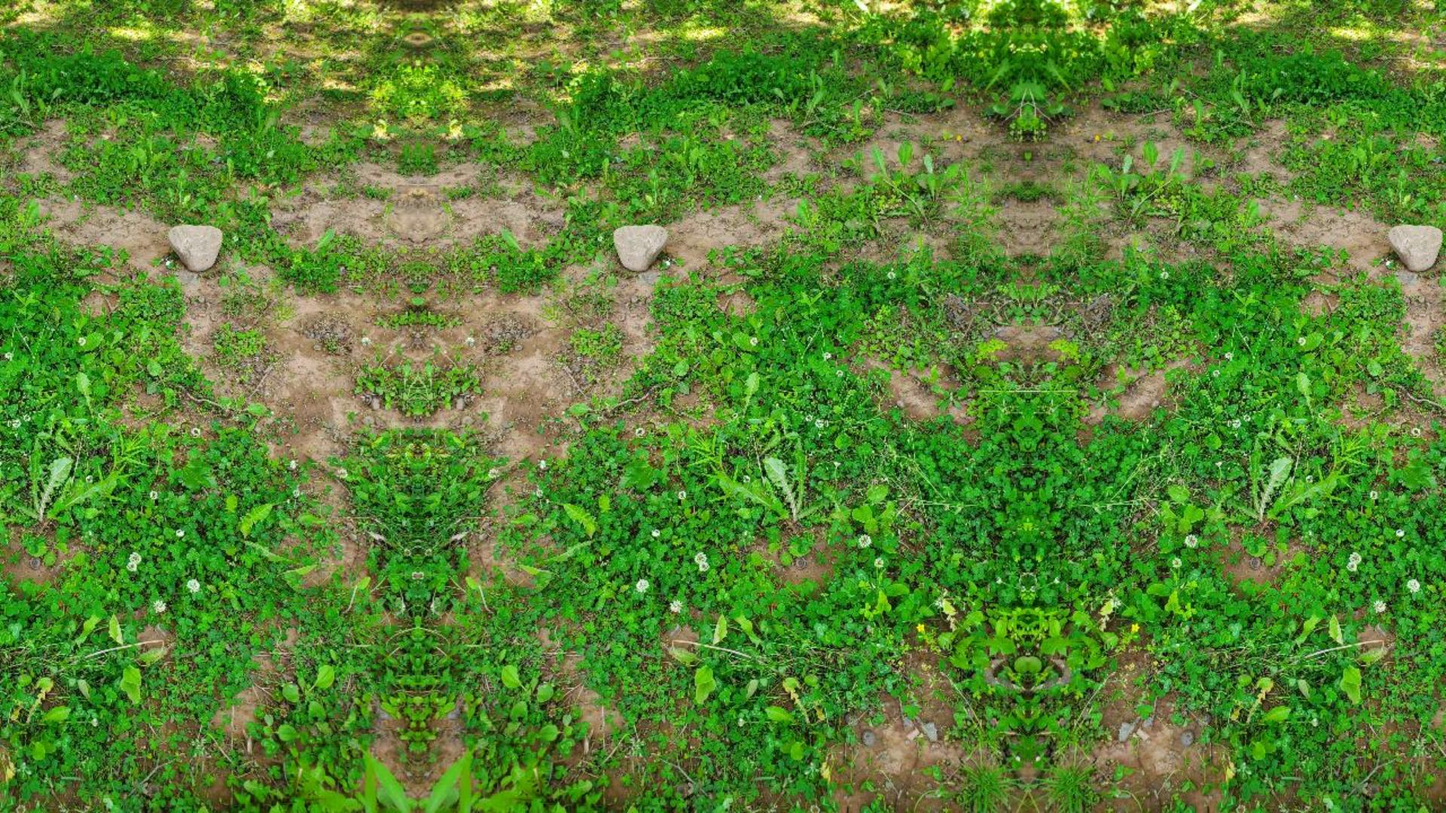rock: (613, 225, 668, 271), (167, 226, 221, 271), (1387, 226, 1441, 271)
